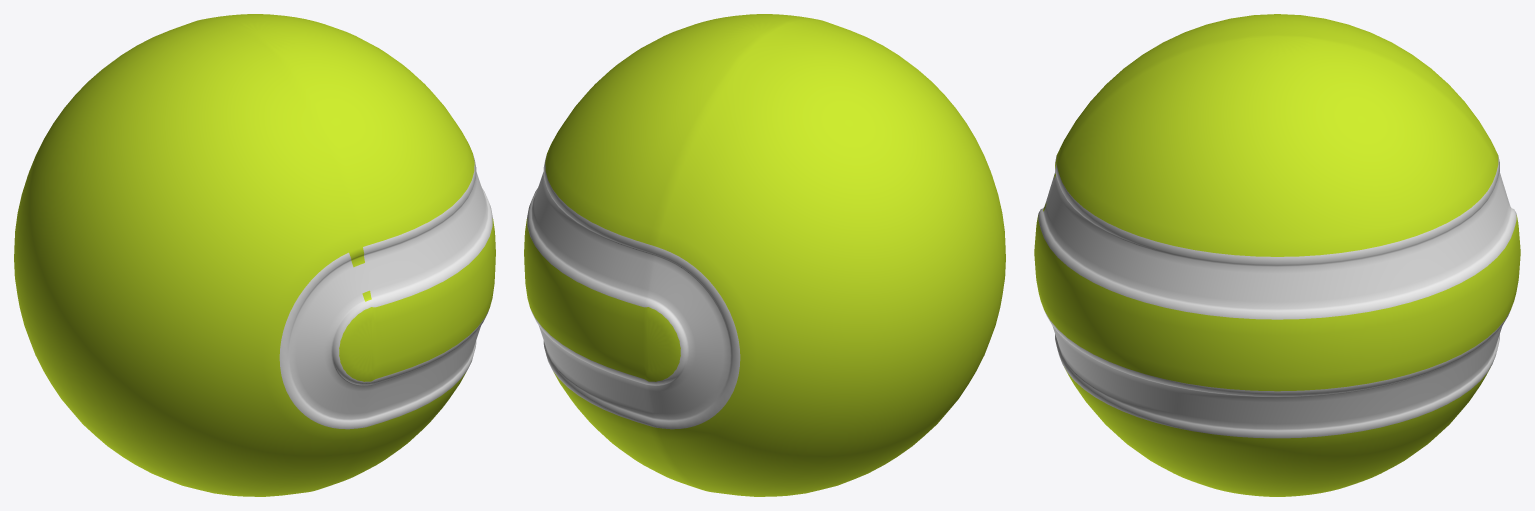
File: tennisBall.fbx
The picture shows the model from 3 angles, left to right: view 1: azimuth 30°, elevation 25°; view 2: azimuth 150°, elevation 25°; view 3: azimuth 270°, elevation 25°; orthographic projection.
Parts seen in each view (by area): view 1: 球; view 2: 球; view 3: 球.
Part boxes in pixels (x1,y1,x2,y2): 球: (14,14,495,496); 球: (524,14,1005,496); 球: (1034,14,1520,496).
Size of the model in its own units: 197 by 199 by 199.
